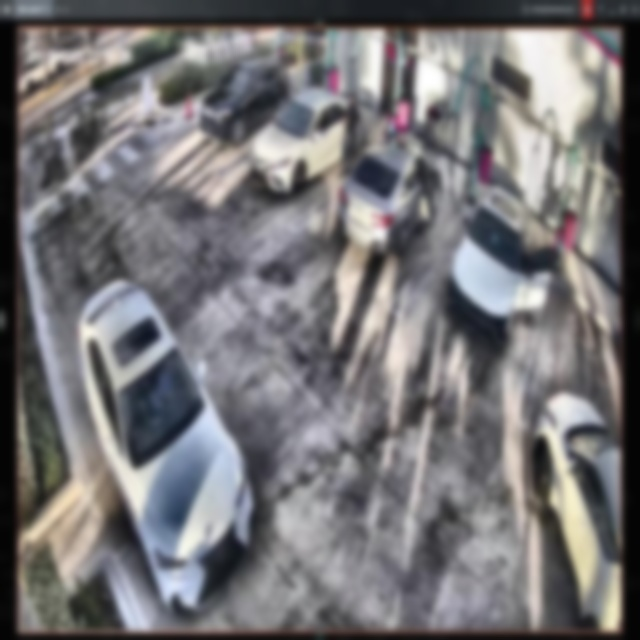Car: (74, 272, 253, 613), (453, 190, 553, 353), (340, 135, 441, 260), (249, 89, 361, 185), (202, 59, 287, 144)
